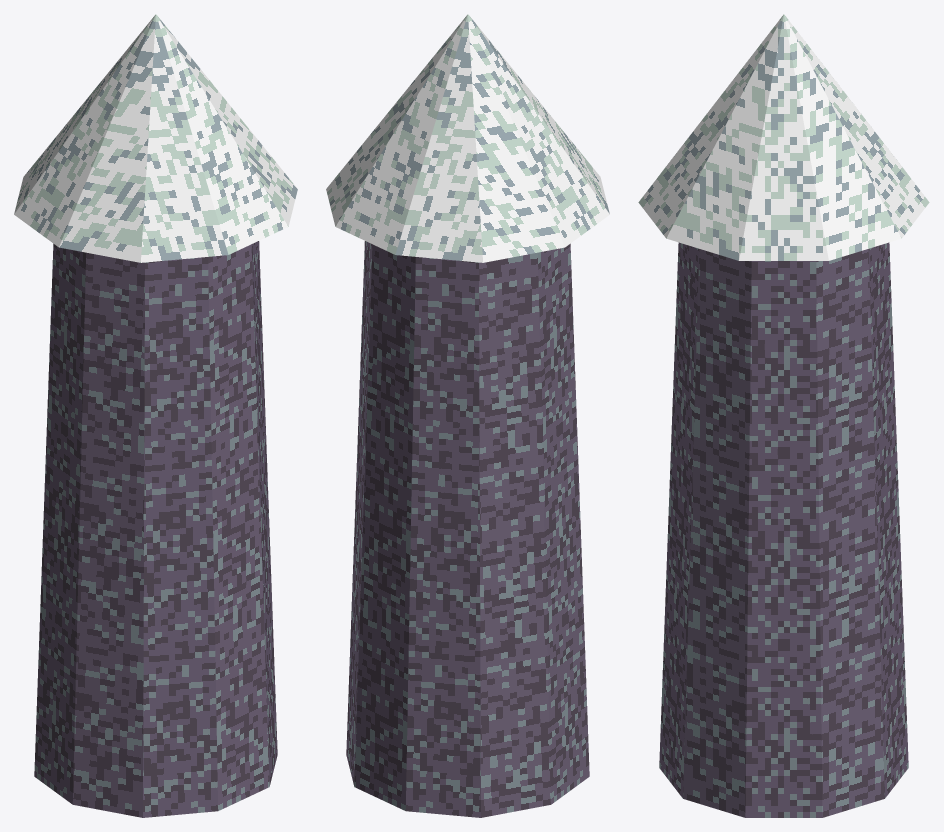
The model's file is mosteiro_aurora_torre_sino.glb.
3 views of the same model, side by side, from view 1: azimuth 30°, elevation 25°; view 2: azimuth 150°, elevation 25°; view 3: azimuth 270°, elevation 25° (orthographic).
Visible parts, largest first — view 1: mosteiro_aurora_torre_sino; view 2: mosteiro_aurora_torre_sino; view 3: mosteiro_aurora_torre_sino.
Part boxes in pixels (x1,y1,x2,y2): mosteiro_aurora_torre_sino: (14,14,297,817); mosteiro_aurora_torre_sino: (326,14,609,817); mosteiro_aurora_torre_sino: (638,14,929,817).
Bounding box in the file's own units: 2.66 × 8 × 2.8.
Materials: 2 (2 with a texture image).
